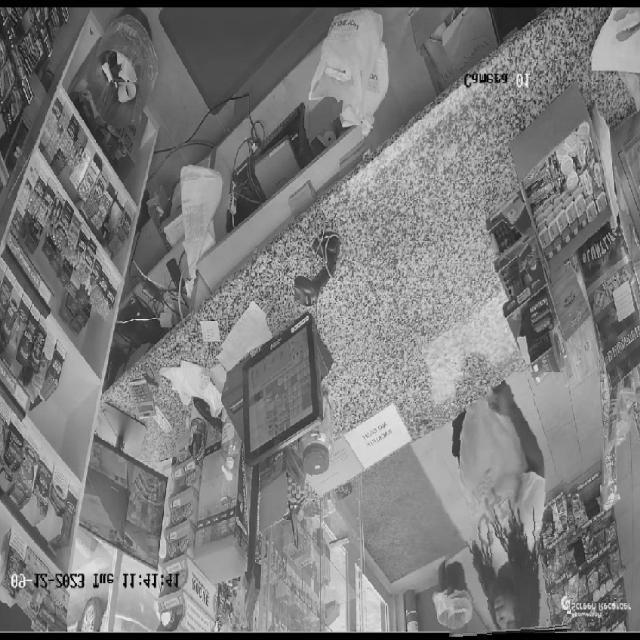Normal: (436, 372, 567, 636)
